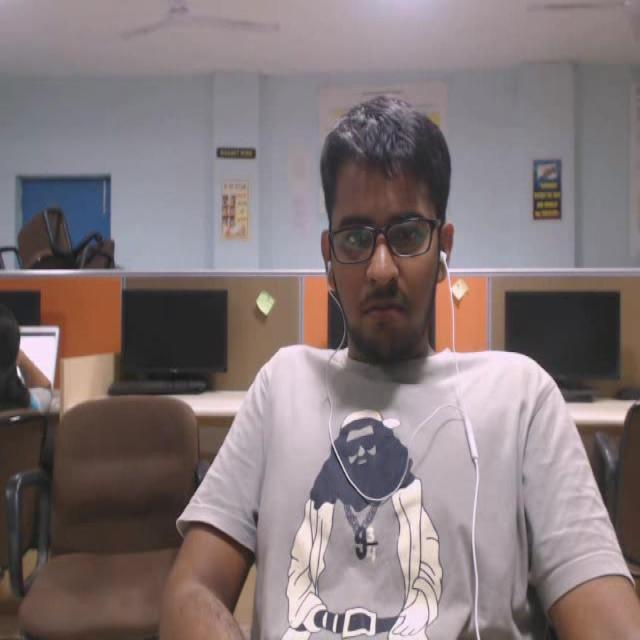Engaged: (264, 61, 480, 392)
